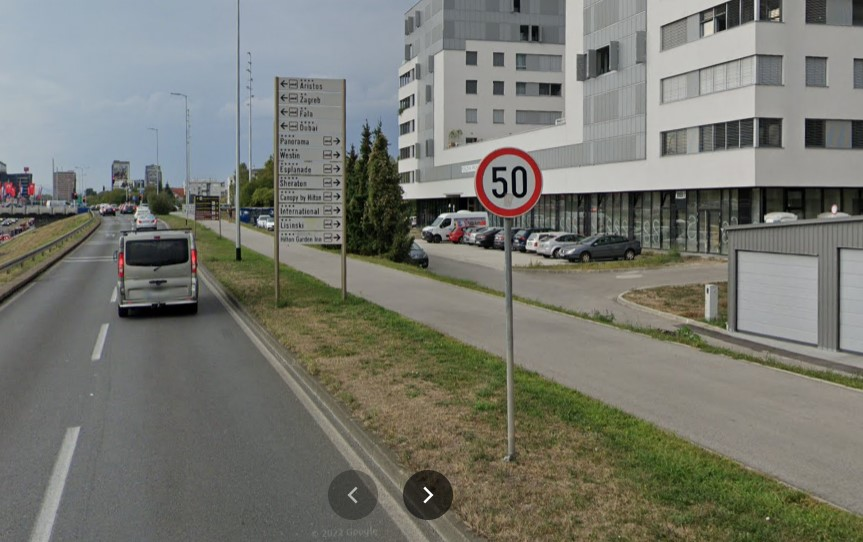Ograničenje brzine 50: (475, 147, 543, 218)
